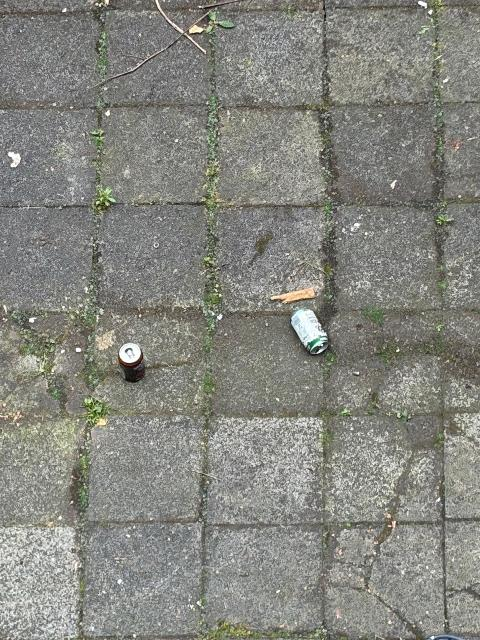can: (291, 307, 331, 354), (118, 343, 148, 384)
